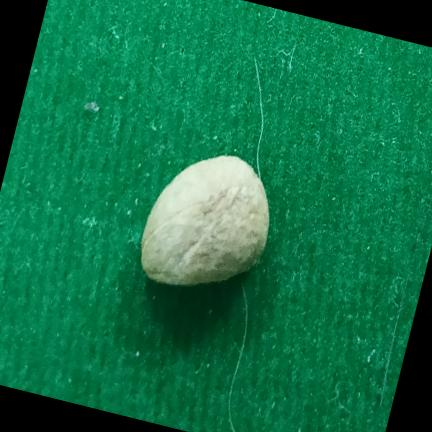good: (140, 155, 269, 285)
